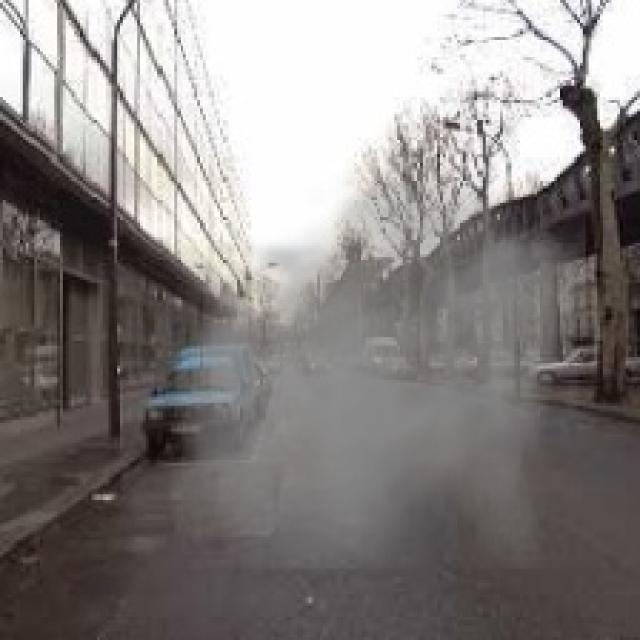Smoke: (168, 148, 586, 568)
